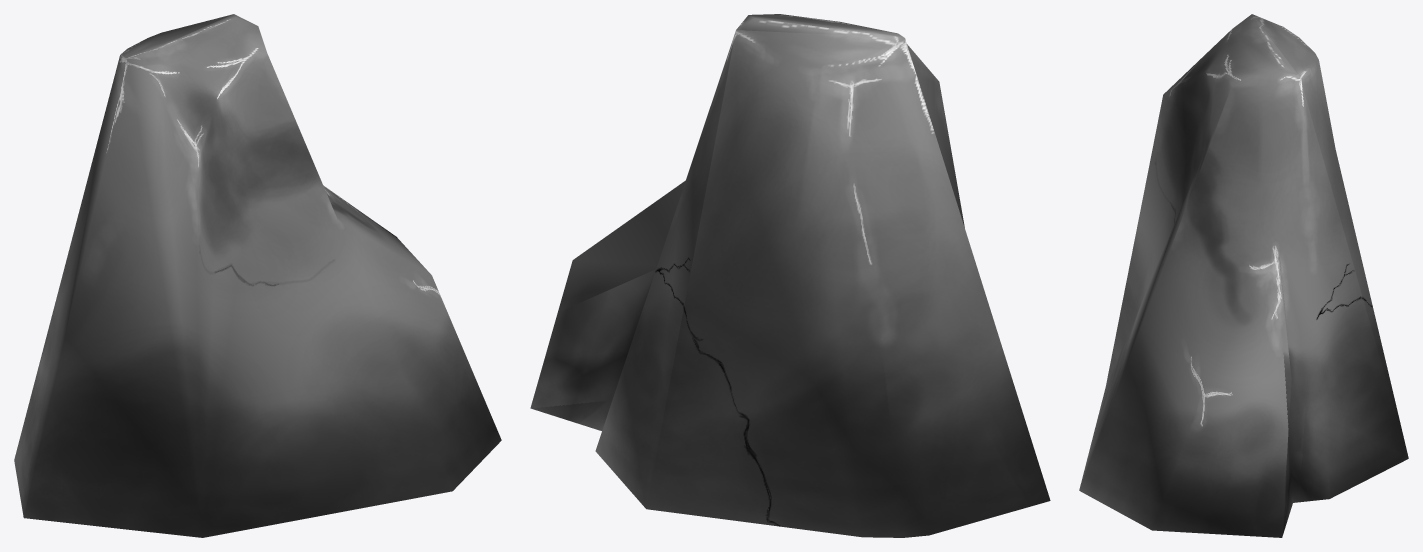
Rendered from Rocas2.fbx.
The picture shows the model from 3 angles, left to right: view 1: azimuth 30°, elevation 25°; view 2: azimuth 150°, elevation 25°; view 3: azimuth 270°, elevation 25°; orthographic projection. The views are drawn at different scales.
Visible parts, largest first — view 1: Roca 2; view 2: Roca 2; view 3: Roca 2.
Boxes of the visible parts, x1,y1,x2,y2 form: Roca 2: (14,14,501,537); Roca 2: (530,14,1050,537); Roca 2: (1079,14,1408,537).
Bounding box in the file's own units: 293 × 256 × 203.
